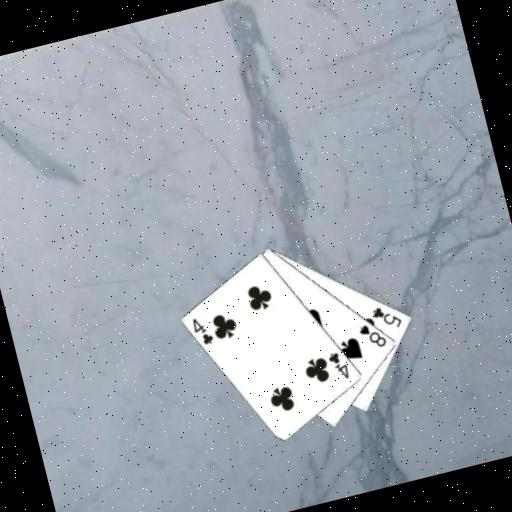4C: (189, 311, 217, 349), (324, 348, 352, 384)
5C: (369, 299, 405, 334)
8S: (355, 318, 389, 354)
